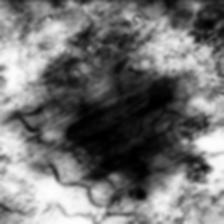Potentially Malignant Skin Tumors: (32, 14, 218, 202)
